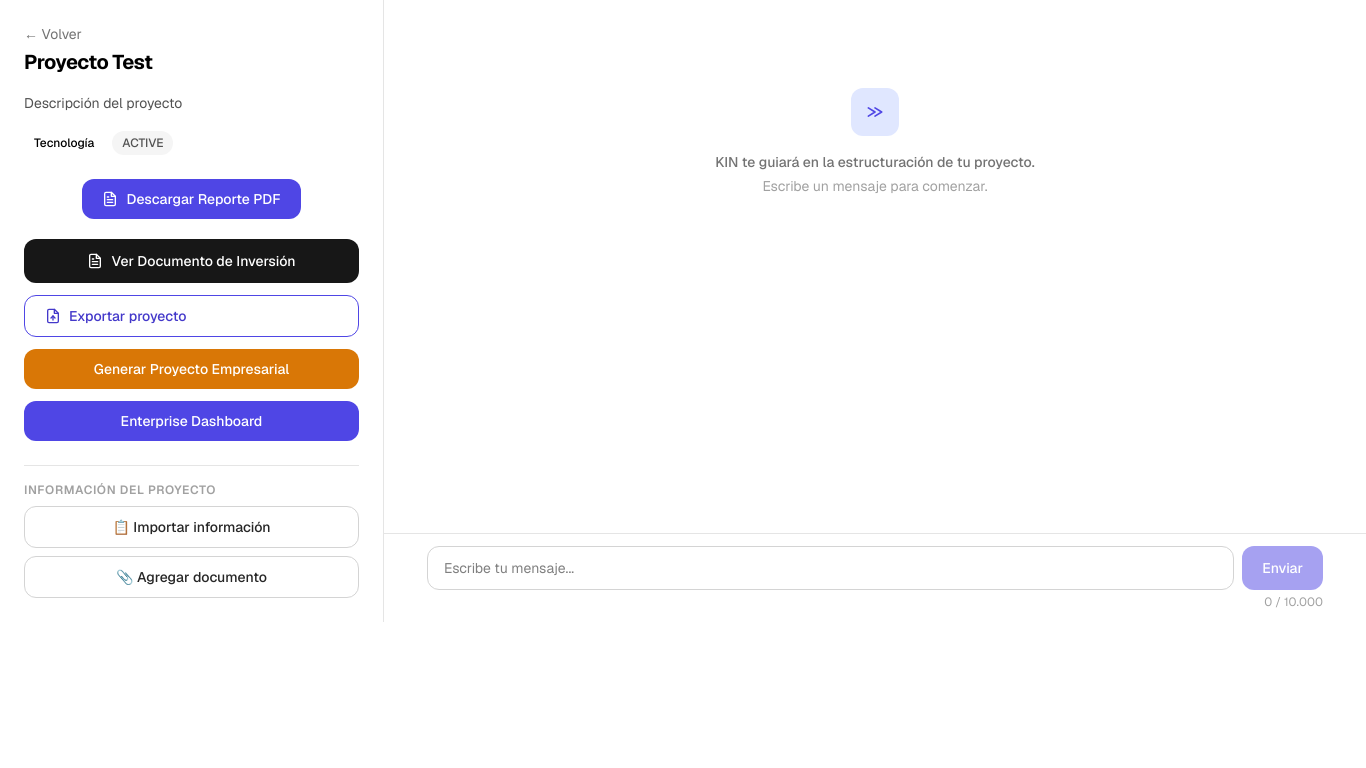
ProjectDetailPage — protección del chat (10.000 caracteres) › error sin tokens muestra el mensaje de error
This screenshot has width=1366, height=768.
Check: the heading "Proyecto Test" is shown, box x1=24 y1=48 x2=152 y2=76
In the field with placeholder "Escribe tu mensaje...": (831, 568) x1=427 y1=546 x2=1234 y2=590, type "hola KIN"
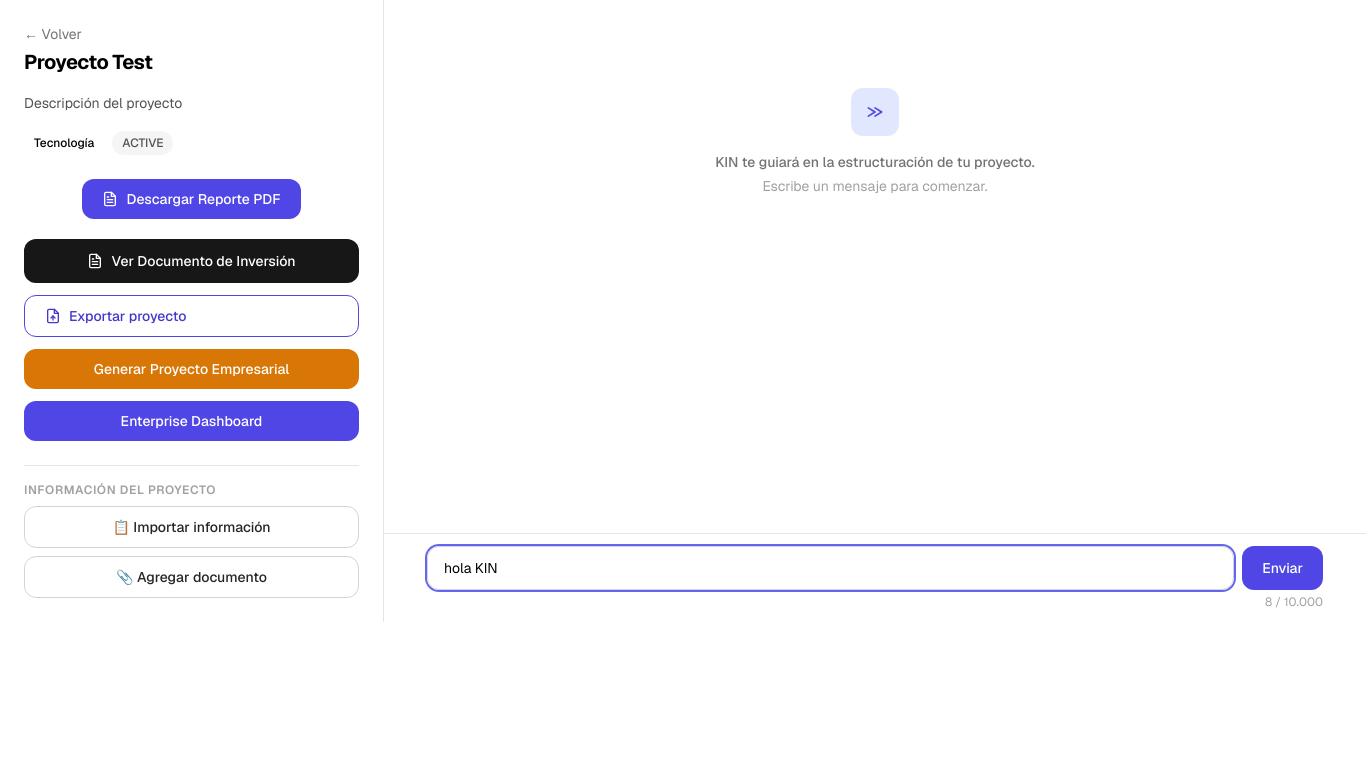
Click the button "Enviar": (1283, 568) x1=1242 y1=546 x2=1323 y2=590
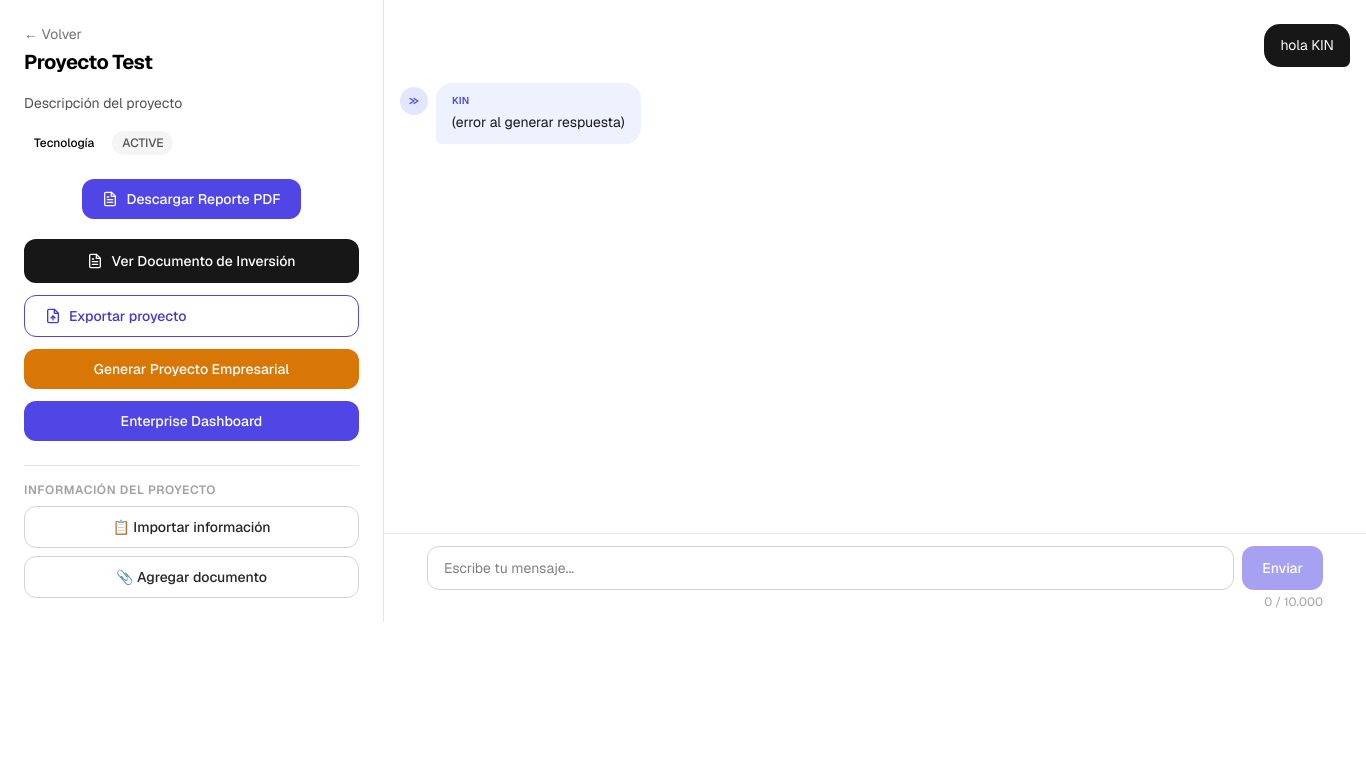
Check: the text "(error al generar respuesta)" is shown, box x1=452 y1=113 x2=624 y2=131
